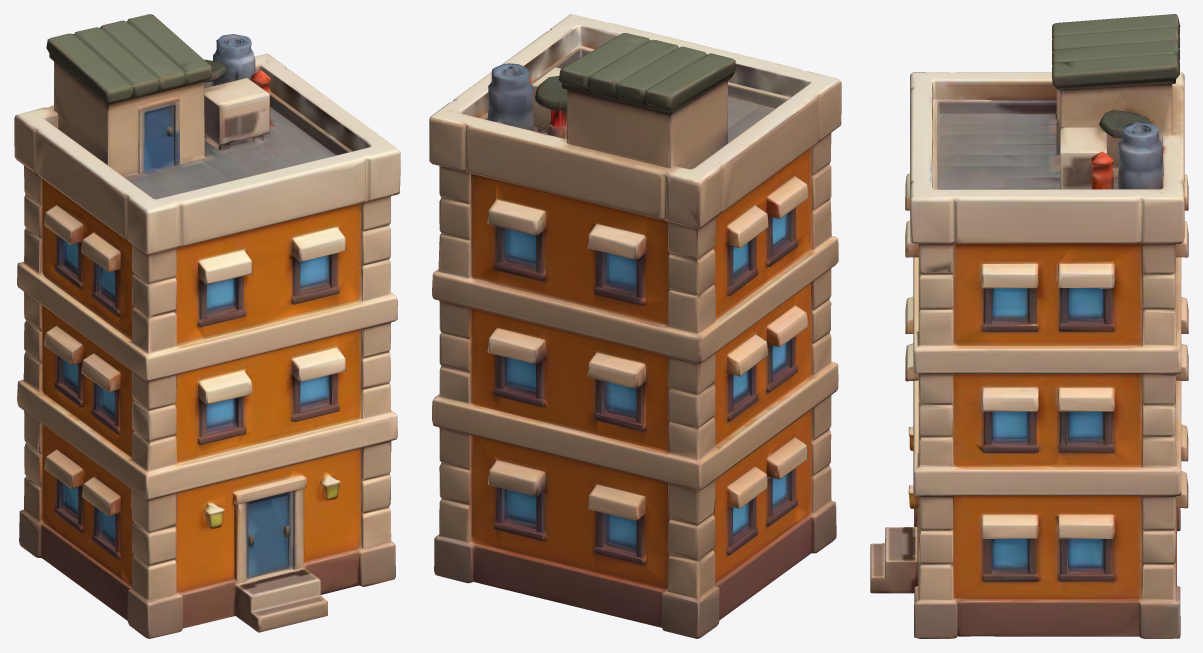
The model's file is props-building-3.glb.
3 views of the same model, side by side, from view 1: azimuth 30°, elevation 25°; view 2: azimuth 150°, elevation 25°; view 3: azimuth 270°, elevation 25° (orthographic). The views are drawn at different scales.
Bounding box in the file's own units: 0.5293 × 0.9673 × 0.542.
1 material, 1 textured.
